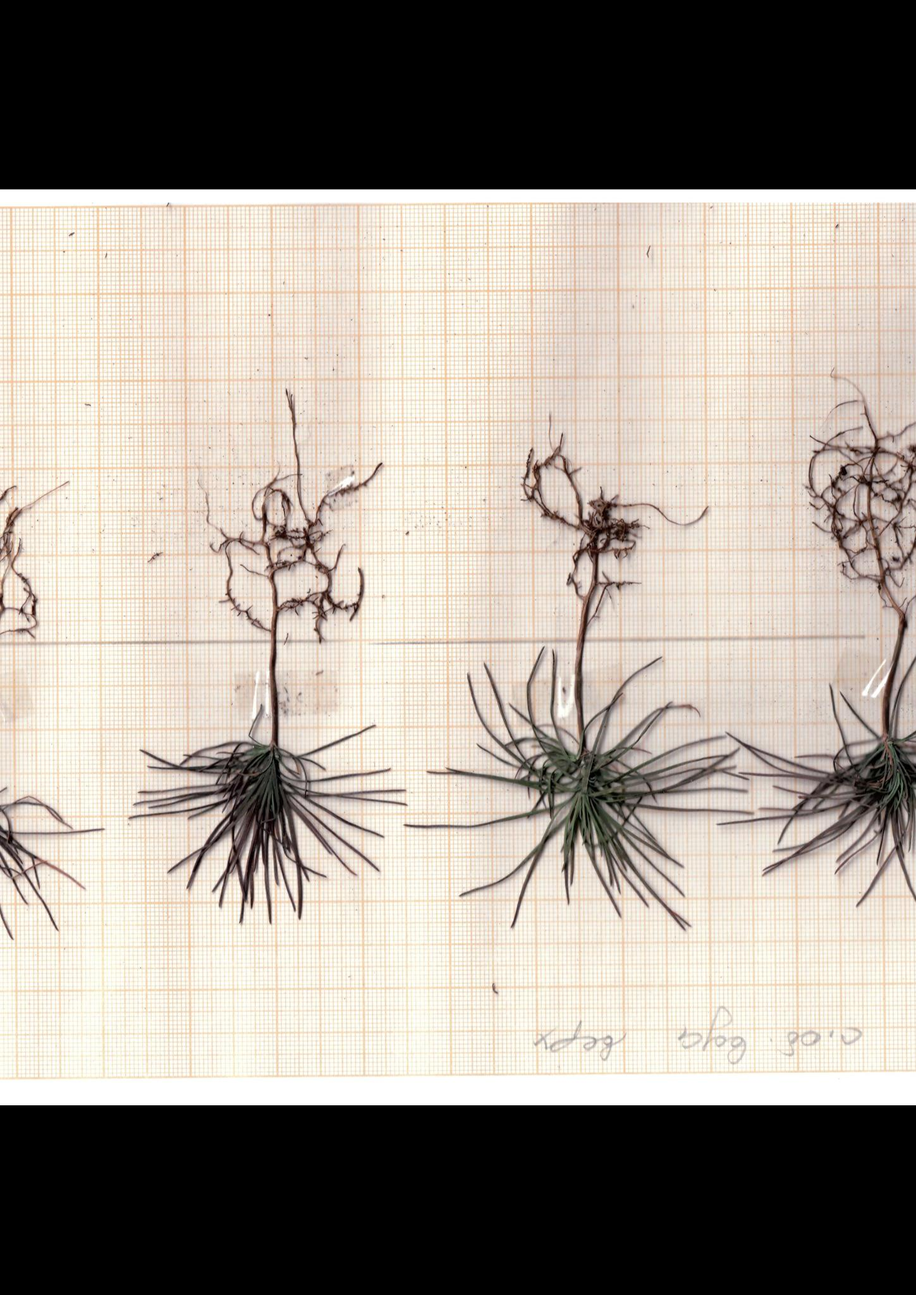cedr: (398, 428, 754, 937), (125, 387, 407, 934), (723, 352, 916, 936), (0, 465, 108, 947)
